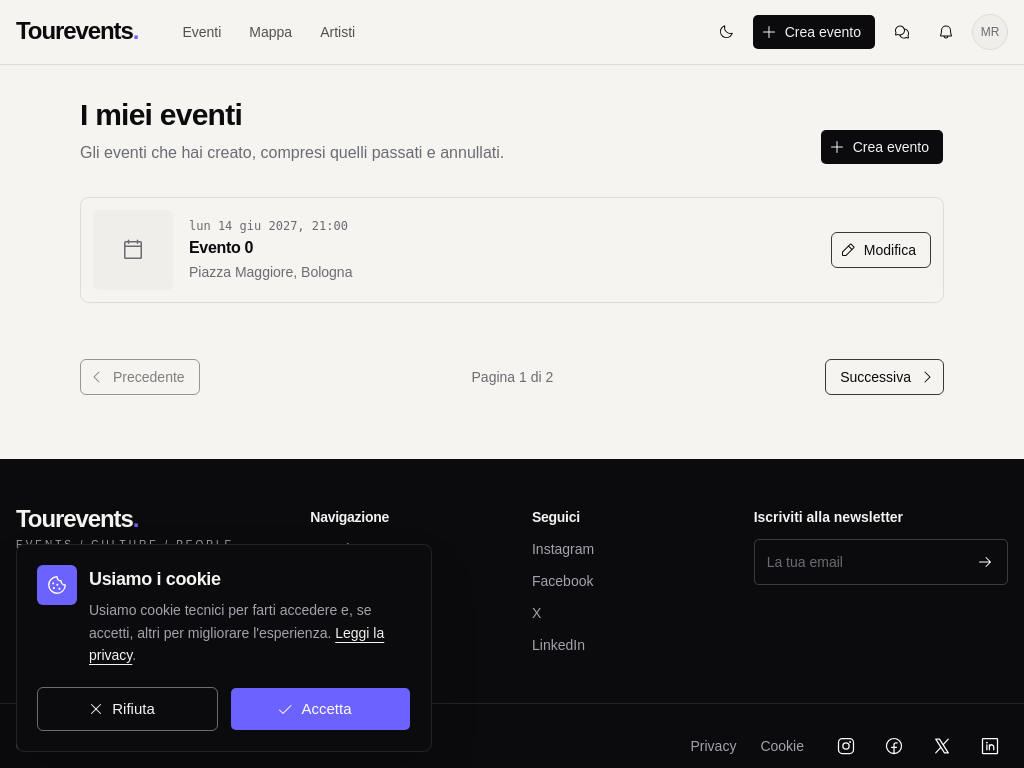
Test case: MyEventsPage › paginazione: la pagina va nell'URL e nella richiesta
expect the text "Pagina 1 di 2" is shown: met, box [472, 367, 553, 387]
Click the button "Successiva" at (885, 377), box [825, 359, 944, 395]
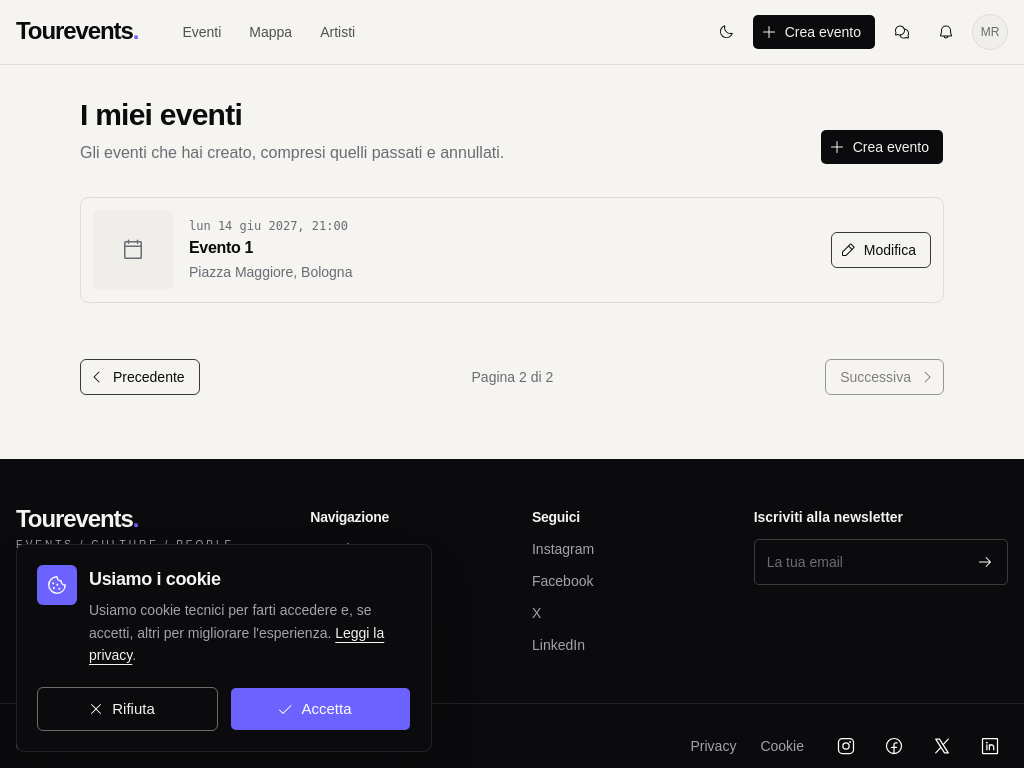
expect the link "Evento 1" is shown: met, box [189, 239, 253, 256]
